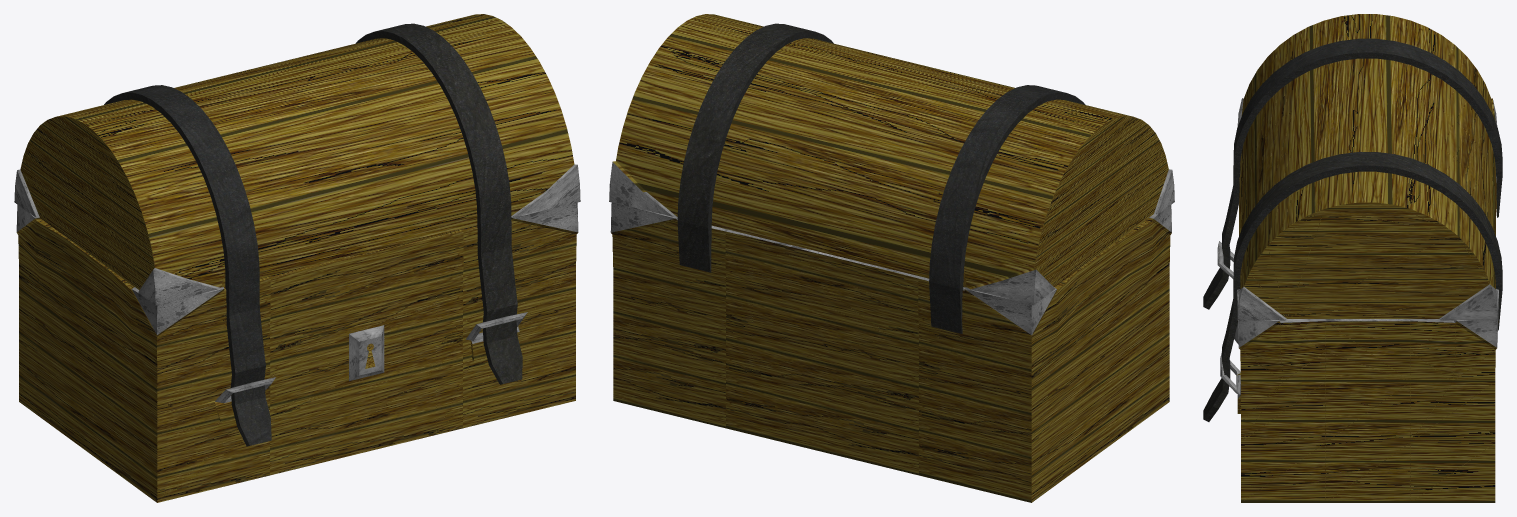
Rendered from chest.FBX.
3 views of the same model, side by side, from view 1: azimuth 30°, elevation 25°; view 2: azimuth 150°, elevation 25°; view 3: azimuth 270°, elevation 25° (orthographic). The views are drawn at different scales.
Parts seen in each view (by area): view 1: Cylinder001, Box001; view 2: Box001, Cylinder001; view 3: Cylinder001, Box001.
Part boxes in pixels (<box>): Cylinder001: <box>14,14,580,446</box>; Box001: <box>16,202,578,502</box>; Box001: <box>610,202,1171,502</box>; Cylinder001: <box>609,14,1174,333</box>; Cylinder001: <box>1203,14,1502,421</box>; Box001: <box>1217,176,1498,502</box>.
Bounding box in the file's own units: 65.87 × 48.94 × 43.36.
